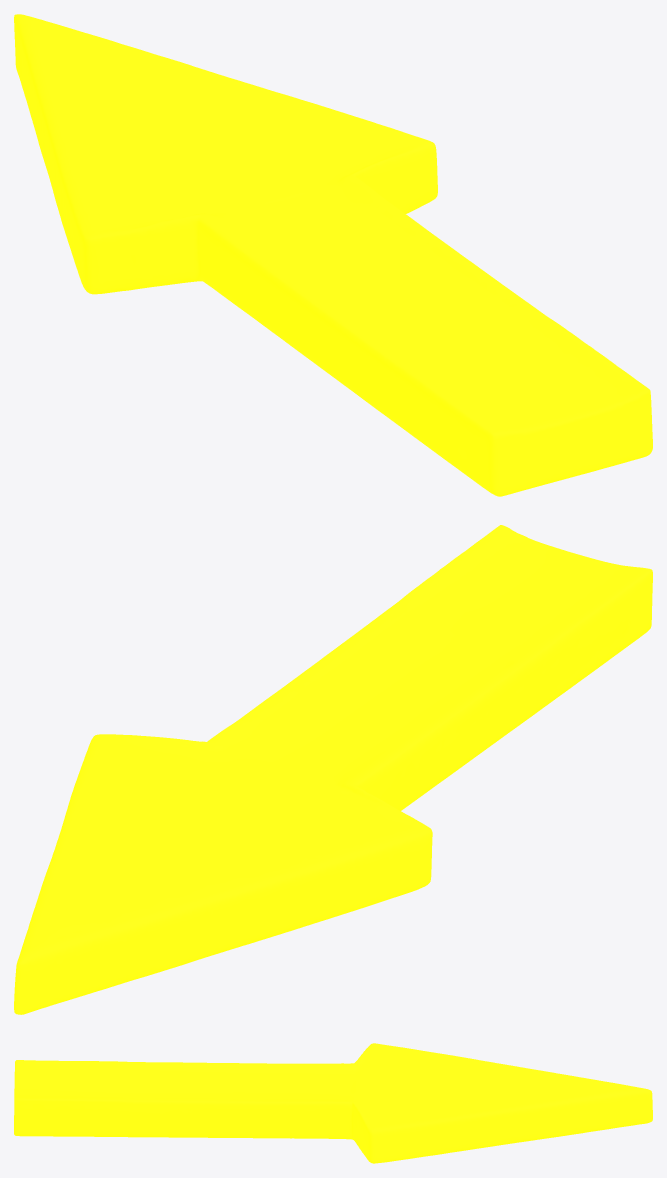
Rendered from model小.glb.
3 renders of one model, top to bottom at view 1: azimuth 30°, elevation 25°; view 2: azimuth 150°, elevation 25°; view 3: azimuth 270°, elevation 25°, orthographic. The views are drawn at different scales.
Visible parts, largest first — view 1: Mesh_0.001; view 2: Mesh_0.001; view 3: Mesh_0.001.
Boxes of the visible parts, x1,y1,x2,y2 form: Mesh_0.001: (14,14,652,496); Mesh_0.001: (14,525,652,1014); Mesh_0.001: (14,1043,652,1163).
Size of the model in its own units: 0.4656 by 0.1022 by 1.3.
